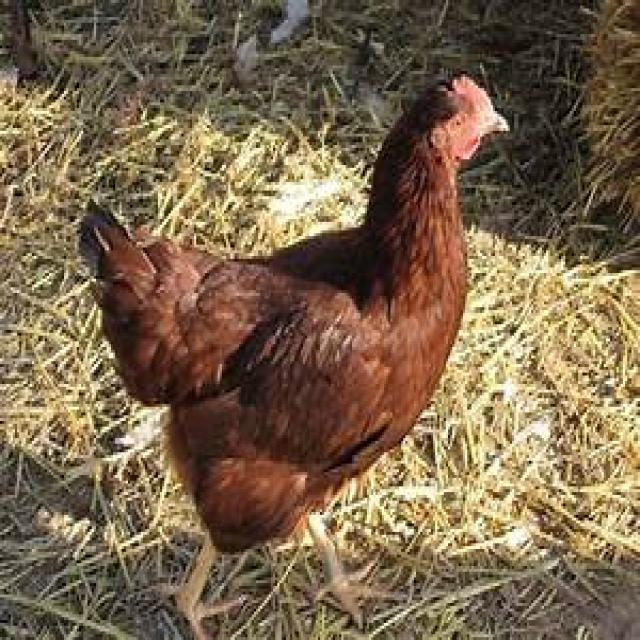hen: (79, 75, 508, 636)
